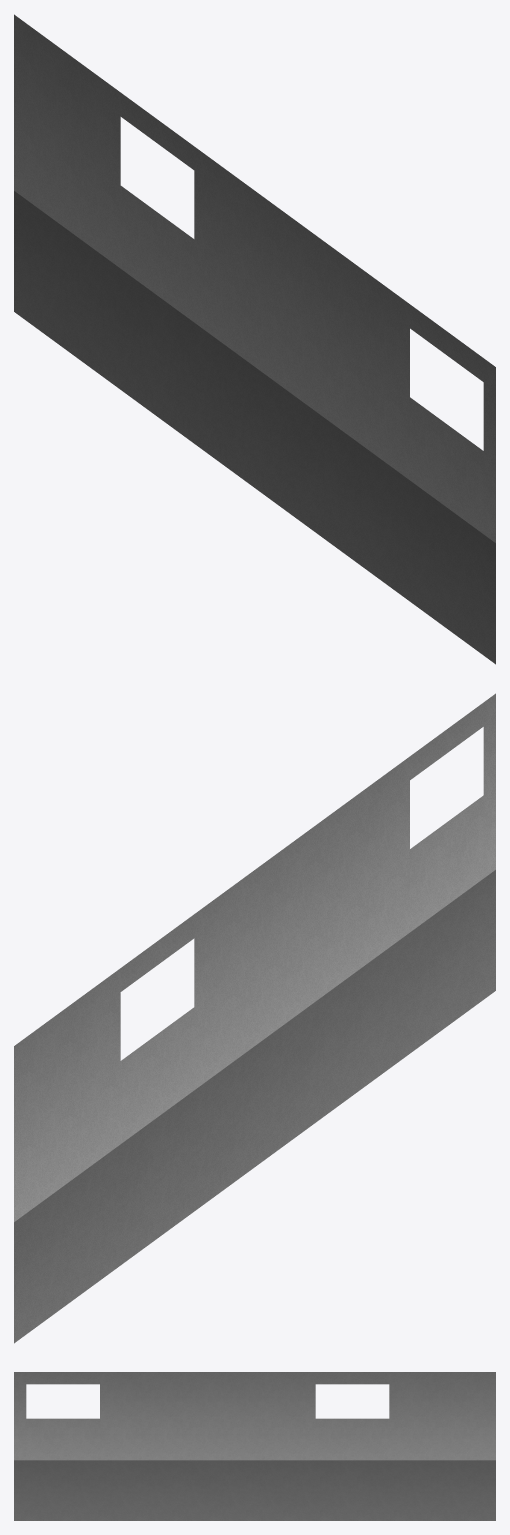
Rendered from Movie_Wall_Wash_w.glb.
The picture shows the model from 3 angles, top to bottom: view 1: azimuth 30°, elevation 25°; view 2: azimuth 150°, elevation 25°; view 3: azimuth 270°, elevation 25°; orthographic projection. The views are drawn at different scales.
Visible parts, largest first — view 1: root; view 2: root; view 3: root.
Boxes of the visible parts, x1,y1,x2,y2 form: root: (14,14,495,664); root: (14,693,495,1343); root: (14,1372,495,1520).
Size of the model in its own units: 0 by 2.44 by 7.16.
2 materials, 2 textured.
